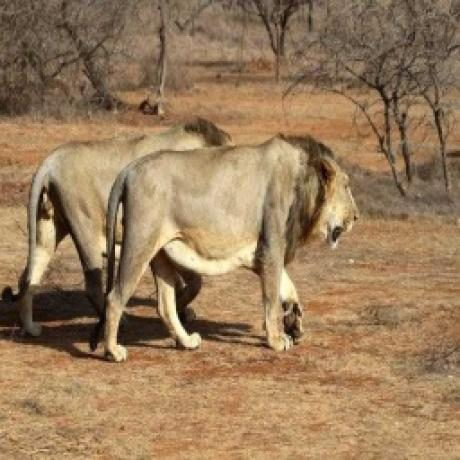Lion: (99, 132, 363, 363), (11, 118, 231, 342)
